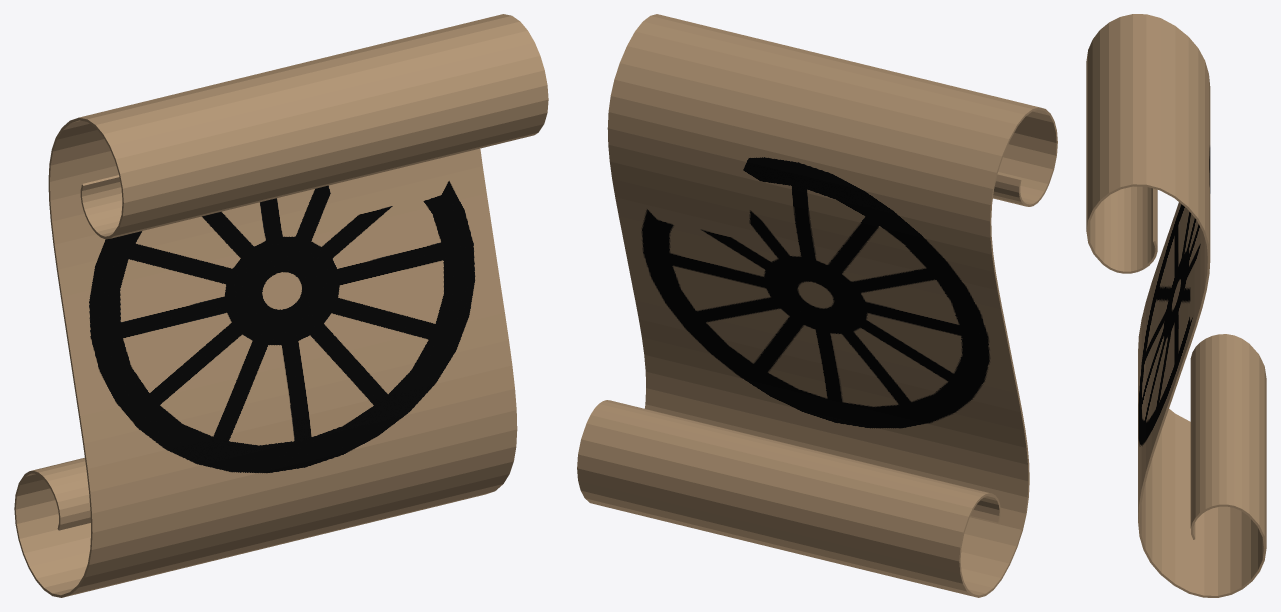
The model's file is BrokenWheel-Puwerup.fbx.
3 renders of one model, left to right at view 1: azimuth 30°, elevation 25°; view 2: azimuth 150°, elevation 25°; view 3: azimuth 270°, elevation 25°, orthographic. The views are drawn at different scales.
Visible parts, largest first — view 1: BrokenWheel; view 2: BrokenWheel; view 3: BrokenWheel.
Boxes of the visible parts, bbox=[...] form: BrokenWheel: bbox=[14, 14, 548, 597]; BrokenWheel: bbox=[577, 14, 1057, 597]; BrokenWheel: bbox=[1086, 14, 1266, 597].
Size of the model in its own units: 176 by 199 by 78.51.
Materials: 1 (1 with a texture image).
